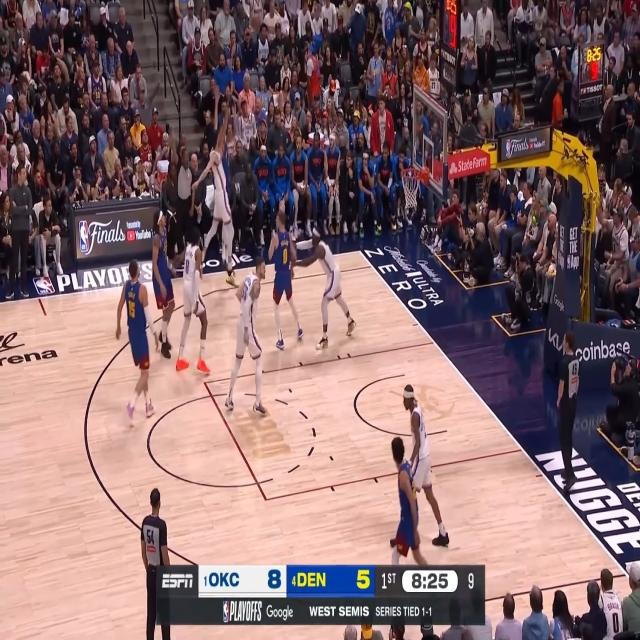ball: (250, 13, 261, 30)
number: (128, 299, 136, 319), (282, 247, 288, 265), (185, 258, 191, 274)
player: (390, 382, 450, 548), (191, 98, 240, 288), (288, 225, 357, 352), (115, 258, 160, 425), (225, 257, 267, 417), (175, 225, 212, 377), (269, 209, 305, 350), (390, 436, 428, 566), (208, 85, 234, 265), (151, 208, 175, 360)
referee: (140, 487, 171, 640), (556, 330, 580, 493), (170, 125, 195, 263)
rim: (400, 167, 422, 180)
